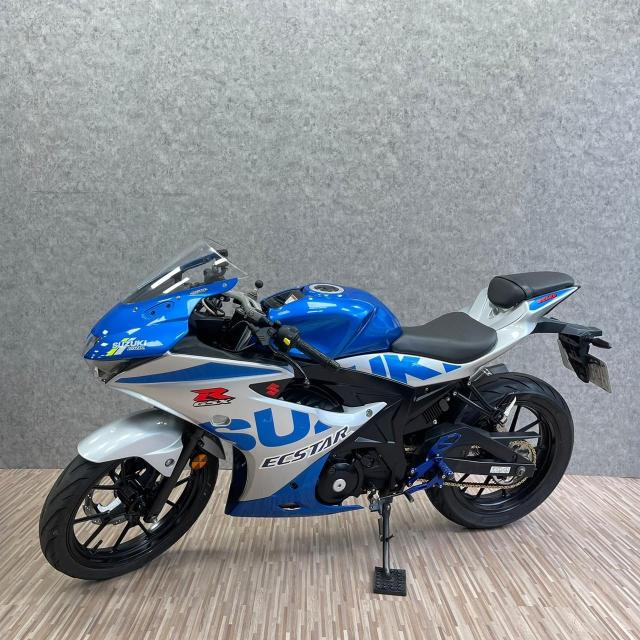Bike: (40, 239, 609, 592)
